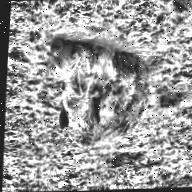boar: (46, 34, 160, 157)
